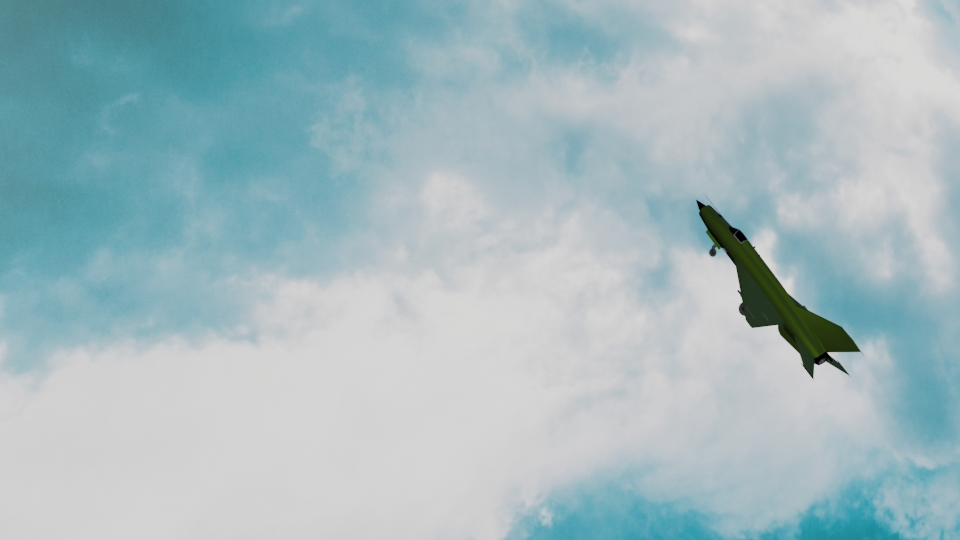plane: (696, 196, 862, 377)
